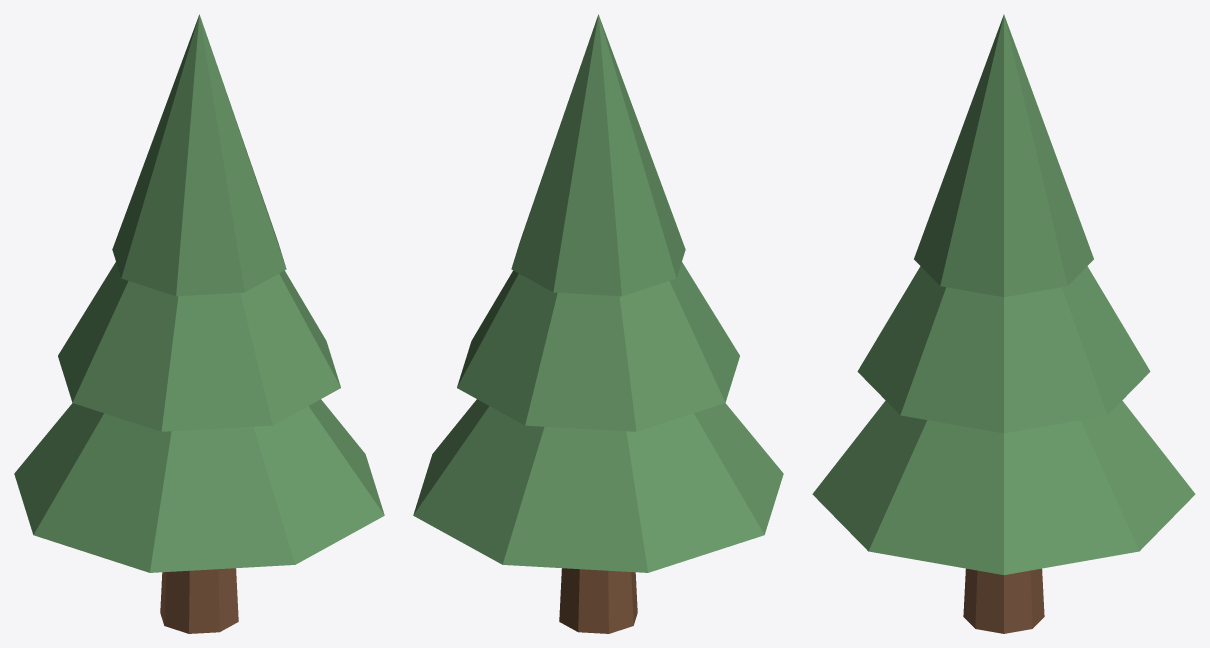
File: tree_b.glb
3 views of the same model, side by side, from view 1: azimuth 30°, elevation 25°; view 2: azimuth 150°, elevation 25°; view 3: azimuth 270°, elevation 25° (orthographic).
Visible parts, largest first — view 1: pine_tier, pine_tier.001, pine_tier.002, trunk; view 2: pine_tier, pine_tier.001, pine_tier.002, trunk; view 3: pine_tier, pine_tier.001, pine_tier.002, trunk.
Part boxes in pixels (box(x1,y1,x2,y2)): pine_tier: box(14, 399, 384, 572); pine_tier.001: box(58, 262, 340, 431); pine_tier.002: box(112, 14, 286, 296); trunk: box(160, 568, 238, 633); pine_tier: box(413, 399, 783, 572); pine_tier.001: box(457, 262, 739, 431); pine_tier.002: box(511, 14, 685, 296); trunk: box(559, 568, 637, 633); pine_tier: box(812, 400, 1195, 574); pine_tier.001: box(857, 266, 1150, 433); pine_tier.002: box(914, 14, 1093, 297); trunk: box(963, 568, 1044, 633).
Bounding box in the file's own units: 1.7 × 2.95 × 1.7.
